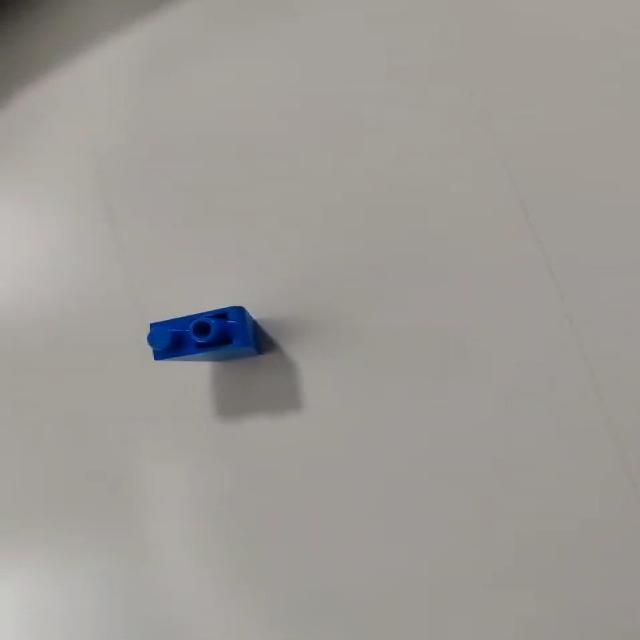X1x2x1: (147, 304, 270, 369)
